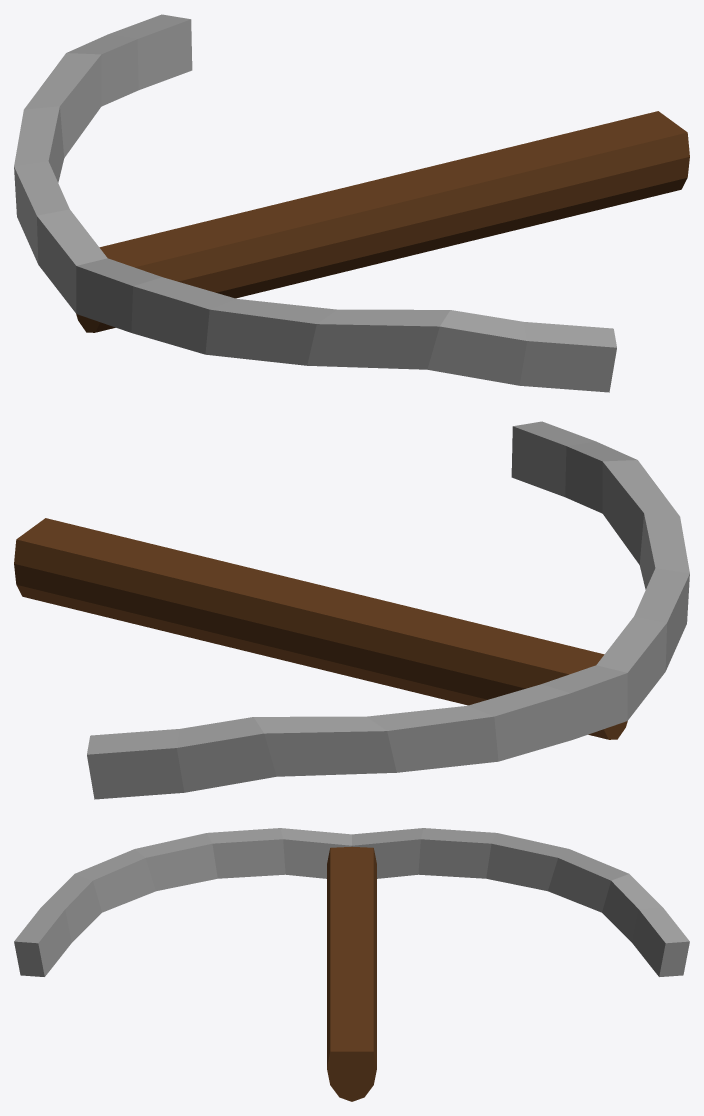
Rendered from crossbow.fbx.
3 renders of one model, top to bottom at view 1: azimuth 30°, elevation 25°; view 2: azimuth 150°, elevation 25°; view 3: azimuth 270°, elevation 25°, orthographic. The views are drawn at different scales.
Parts seen in each view (by area): view 1: Cube.001, Cube; view 2: Cube.001, Cube; view 3: Cube.001, Cube.
Boxes of the visible parts, x1=… form: Cube.001: x1=14, y1=14, x2=616, y2=392; Cube: x1=76, y1=111, x2=689, y2=332; Cube.001: x1=87, y1=421, x2=689, y2=799; Cube: x1=14, y1=518, x2=627, y2=739; Cube.001: x1=14, y1=828, x2=689, y2=976; Cube: x1=327, y1=846, x2=376, y2=1101.
Bounding box in the file's own units: 54.43 × 9.09 × 71.93.
